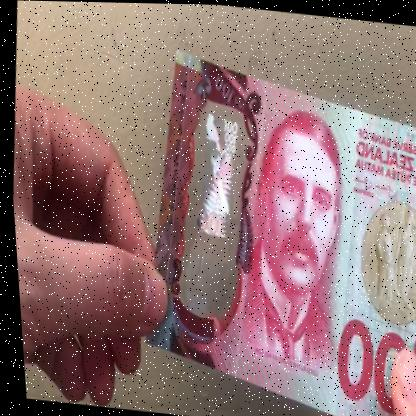100F: (170, 106, 252, 311)
